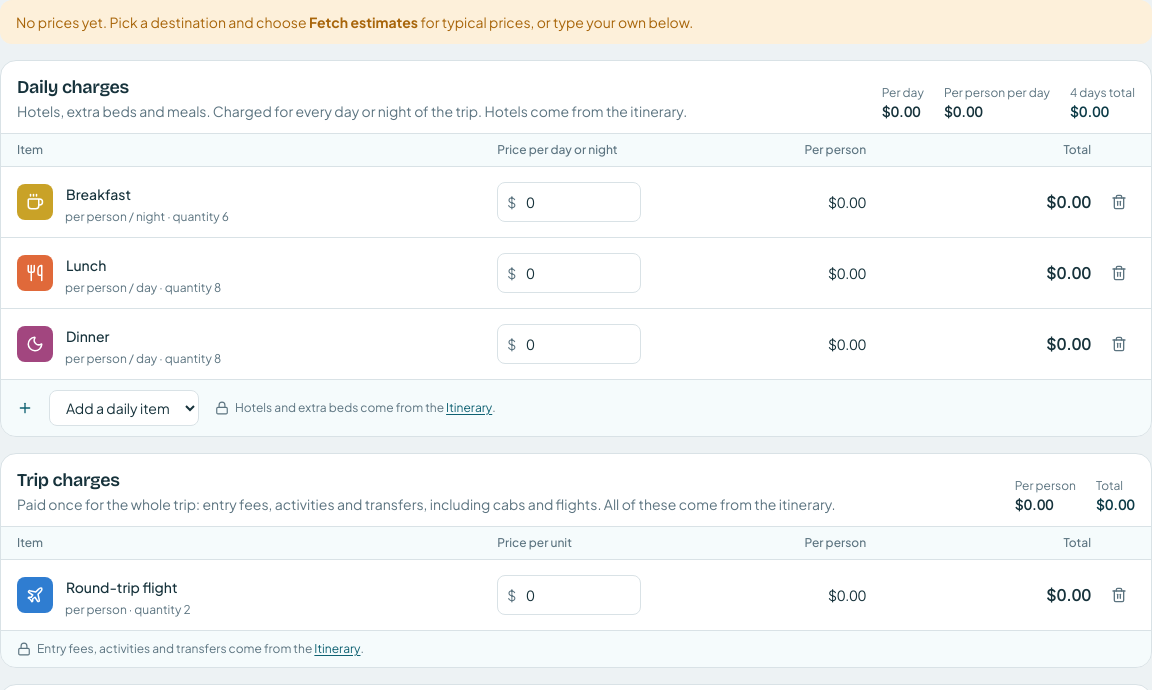
Test case: CostTable › removes an item
Click the button named "Remove Round-trip flight" at (1119, 595), box [1103,579,1135,611]
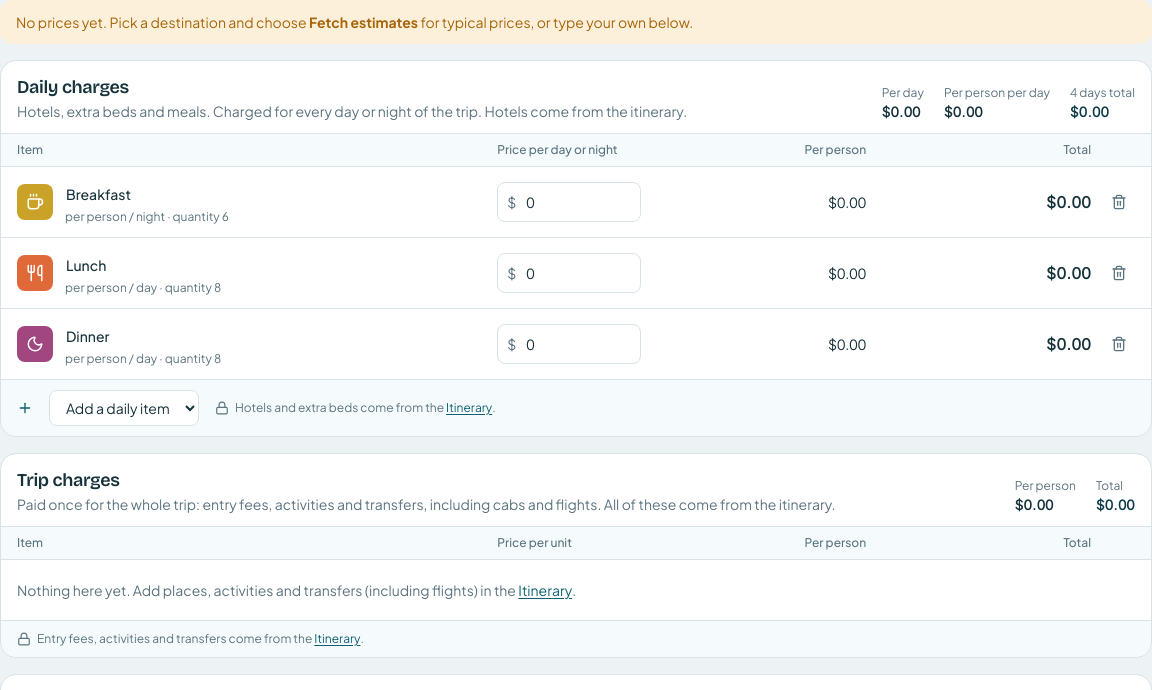
Expected: the list item with test id "row-flight" is gone
